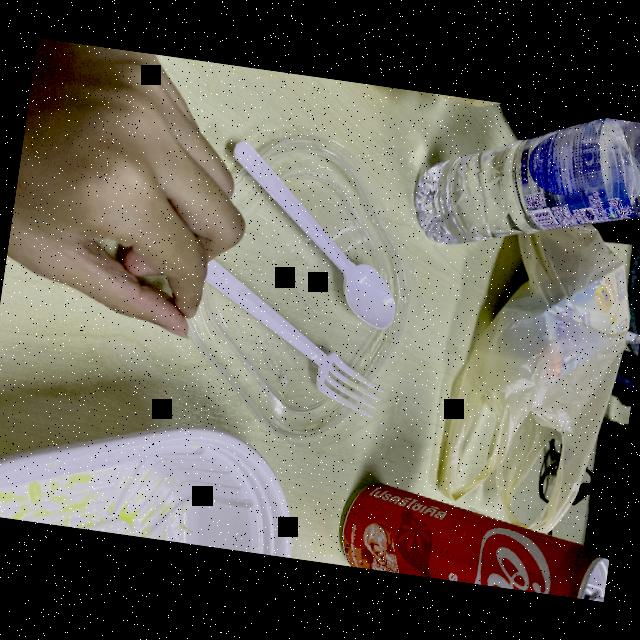plastic_spoon: (199, 129, 431, 338), (180, 252, 404, 429)
